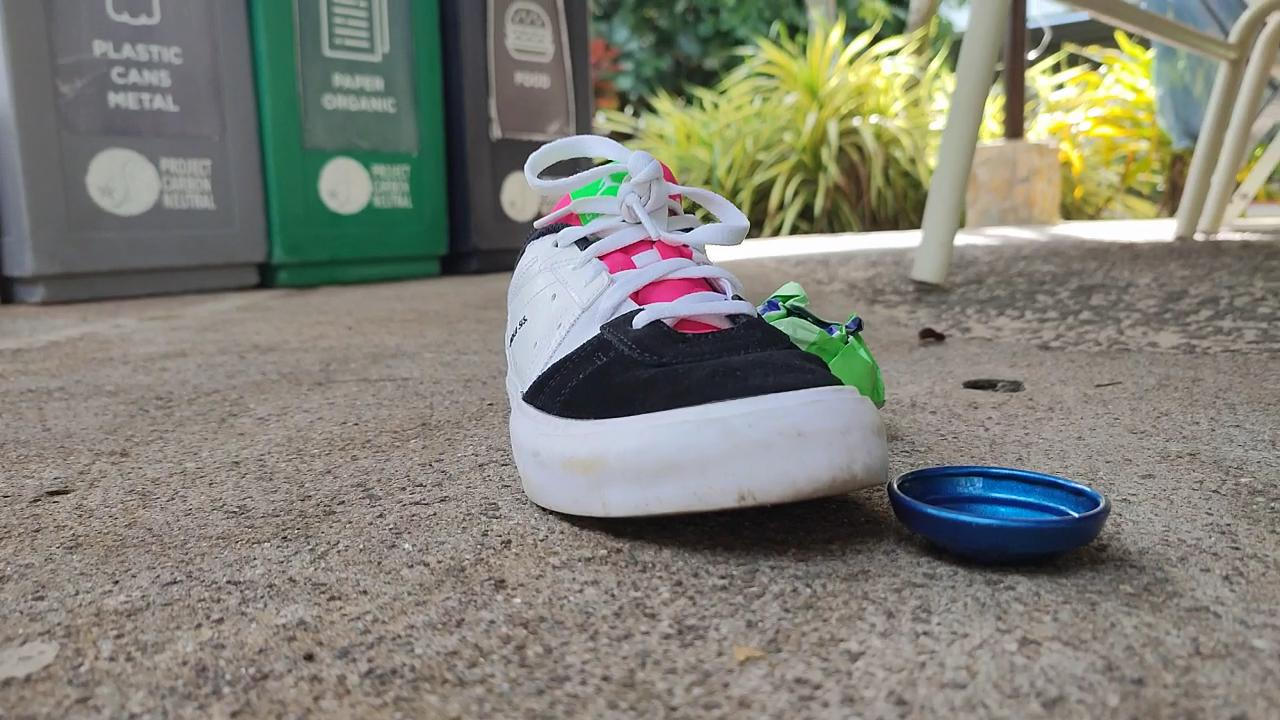Paper: (753, 257, 888, 418)
